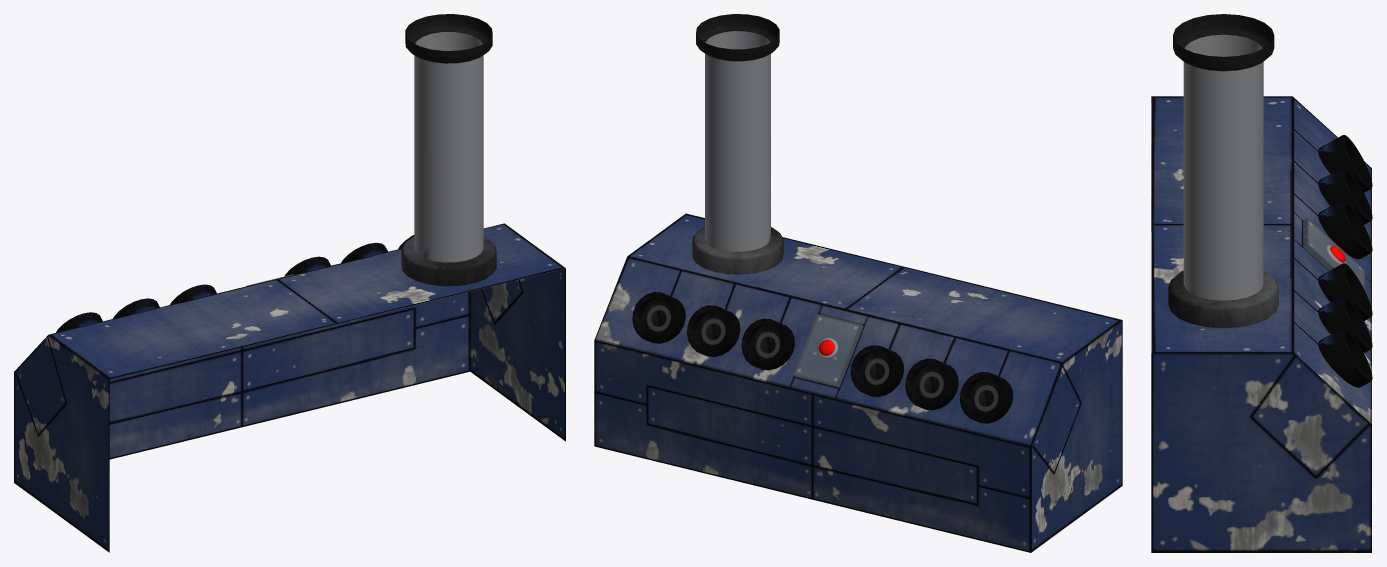
File: Generator.fbx
3 renders of one model, left to right at view 1: azimuth 30°, elevation 25°; view 2: azimuth 150°, elevation 25°; view 3: azimuth 270°, elevation 25°, orthographic. The views are drawn at different scales.
Parts seen in each view (by area): view 1: Generator; view 2: Generator; view 3: Generator.
Boxes of the visible parts, <box> form: Generator: <box>14,14,565,552</box>; Generator: <box>594,14,1122,552</box>; Generator: <box>1151,14,1372,552</box>.
Size of the model in its own units: 586 by 500 by 214.
1 material, 1 textured.
